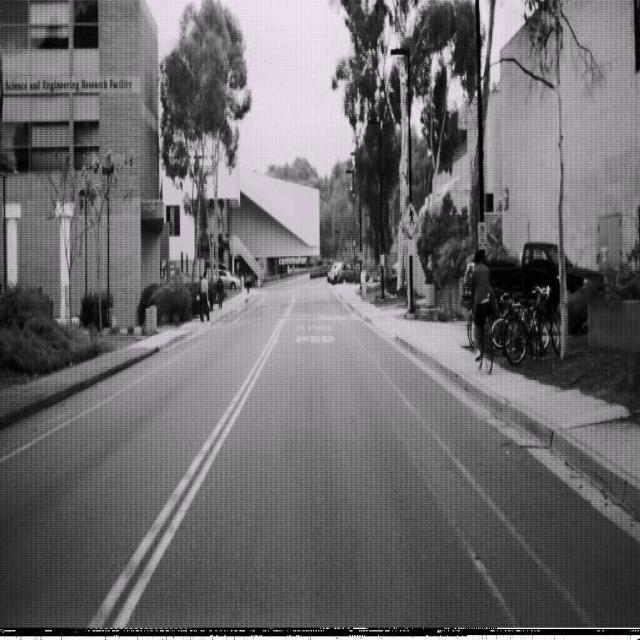pedestrianCrossing: (402, 201, 420, 237)
